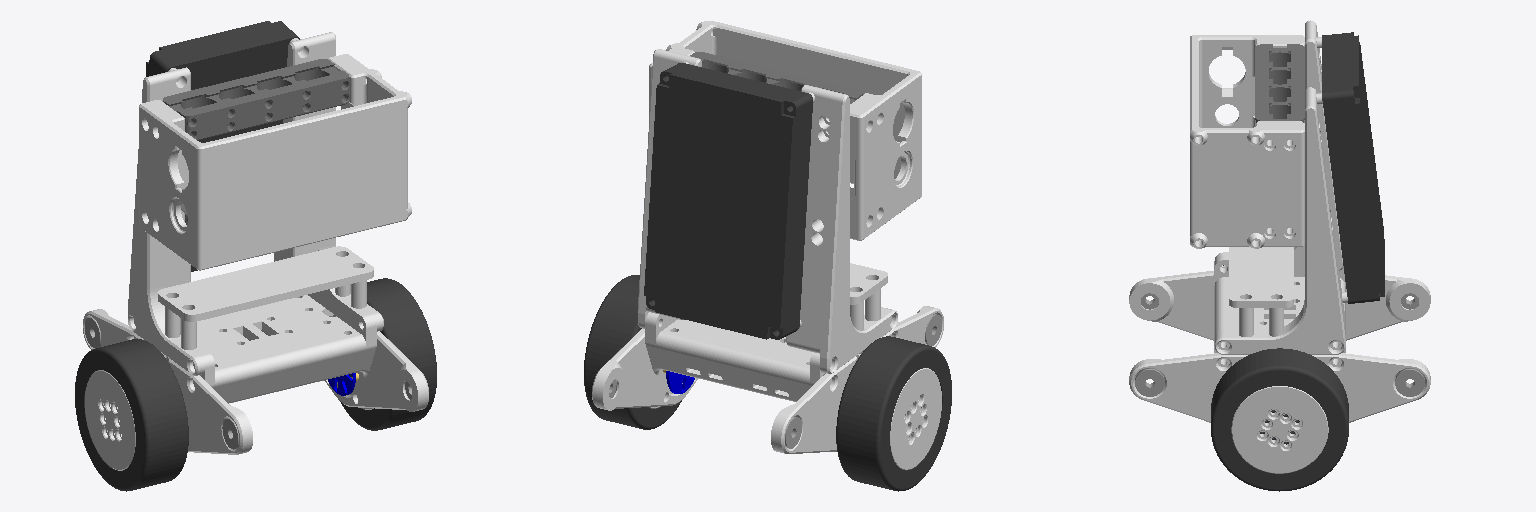
robot.urdf — my-robot:
<?xml version="1.0" ?>
<!-- Generated using onshape-to-robot -->
<!-- Onshape https://cad.onshape.com/documents/c31b75b69f86cba7a60e5fc7/w/78a9ece6d596751f738012d2/e/c7fa50fe5dc467a47ab74165 -->
<robot name="my-robot">
  <!-- Link base -->
  <link name="base">
    <inertial>
      <origin xyz="0 0 0" rpy="0 0 0"/>
      <mass value="1e-09"/>
      <inertia ixx="1e-09" ixy="0" ixz="0" iyy="1e-09" iyz="0" izz="1e-09"/>
    </inertial>
    <!-- Part right_mount -->
    <visual>
      <origin xyz="-0.055 0 -0.0299199" rpy="0 -0 3.14159"/>
      <geometry>
        <mesh filename="package://assets/right_mount.stl"/>
      </geometry>
      <material name="right_mount_material">
        <color rgba="0.917647 0.917647 0.917647 1"/>
      </material>
    </visual>
    <collision>
      <origin xyz="-0.055 0 -0.0299199" rpy="0 -0 3.14159"/>
      <geometry>
        <mesh filename="package://assets/right_mount.stl"/>
      </geometry>
    </collision>
    <!-- Part bearing -->
    <visual>
      <origin xyz="-0.055 0 -0.0299199" rpy="0 -0 -3.14159"/>
      <geometry>
        <mesh filename="package://assets/bearing.stl"/>
      </geometry>
      <material name="bearing_material">
        <color rgba="0.701961 0.701961 0.701961 1"/>
      </material>
    </visual>
    <collision>
      <origin xyz="-0.055 0 -0.0299199" rpy="0 -0 -3.14159"/>
      <geometry>
        <mesh filename="package://assets/bearing.stl"/>
      </geometry>
    </collision>
    <!-- Part part_1 -->
    <visual>
      <origin xyz="0 -0.000288972 0.00708619" rpy="0 -0 -3.14159"/>
      <geometry>
        <mesh filename="package://assets/part_1.stl"/>
      </geometry>
      <material name="part_1_material">
        <color rgba="0.917647 0.917647 0.917647 1"/>
      </material>
    </visual>
    <collision>
      <origin xyz="0 -0.000288972 0.00708619" rpy="0 -0 -3.14159"/>
      <geometry>
        <mesh filename="package://assets/part_1.stl"/>
      </geometry>
    </collision>
    <!-- Part bearing_2 -->
    <visual>
      <origin xyz="-0.16 0 -0.0299199" rpy="0 -0 3.14159"/>
      <geometry>
        <mesh filename="package://assets/bearing.stl"/>
      </geometry>
      <material name="bearing_2_material">
        <color rgba="0.701961 0.701961 0.701961 1"/>
      </material>
    </visual>
    <collision>
      <origin xyz="-0.16 0 -0.0299199" rpy="0 -0 3.14159"/>
      <geometry>
        <mesh filename="package://assets/bearing.stl"/>
      </geometry>
    </collision>
    <!-- Part bearing_3 -->
    <visual>
      <origin xyz="-0.16 0.139 -0.0299199" rpy="0 -0 3.14159"/>
      <geometry>
        <mesh filename="package://assets/bearing.stl"/>
      </geometry>
      <material name="bearing_3_material">
        <color rgba="0.701961 0.701961 0.701961 1"/>
      </material>
    </visual>
    <collision>
      <origin xyz="-0.16 0.139 -0.0299199" rpy="0 -0 3.14159"/>
      <geometry>
        <mesh filename="package://assets/bearing.stl"/>
      </geometry>
    </collision>
    <!-- Part part_1_2 -->
    <visual>
      <origin xyz="0 0.0491338 0.086117" rpy="-0 -1.45613 -1.5708"/>
      <geometry>
        <mesh filename="package://assets/part_1__2.stl"/>
      </geometry>
      <material name="part_1_2_material">
        <color rgba="0.301961 0.301961 0.301961 1"/>
      </material>
    </visual>
    <collision>
      <origin xyz="0 0.0491338 0.086117" rpy="-0 -1.45613 -1.5708"/>
      <geometry>
        <mesh filename="package://assets/part_1__2.stl"/>
      </geometry>
    </collision>
    <!-- Part rightpillar -->
    <visual>
      <origin xyz="-0.055 0 -0.0299199" rpy="0 -0 3.14159"/>
      <geometry>
        <mesh filename="package://assets/rightpillar.stl"/>
      </geometry>
      <material name="rightpillar_material">
        <color rgba="0.917647 0.917647 0.917647 1"/>
      </material>
    </visual>
    <collision>
      <origin xyz="-0.055 0 -0.0299199" rpy="0 -0 3.14159"/>
      <geometry>
        <mesh filename="package://assets/rightpillar.stl"/>
      </geometry>
    </collision>
    <!-- Part mcu_platform -->
    <visual>
      <origin xyz="-0.055 0 -0.0299199" rpy="0 -0 -3.14159"/>
      <geometry>
        <mesh filename="package://assets/mcu_platform.stl"/>
      </geometry>
      <material name="mcu_platform_material">
        <color rgba="0.917647 0.917647 0.917647 1"/>
      </material>
    </visual>
    <collision>
      <origin xyz="-0.055 0 -0.0299199" rpy="0 -0 -3.14159"/>
      <geometry>
        <mesh filename="package://assets/mcu_platform.stl"/>
      </geometry>
    </collision>
    <!-- Part bearing_4 -->
    <visual>
      <origin xyz="-0.055 0.139 -0.0299199" rpy="0 -0 -3.14159"/>
      <geometry>
        <mesh filename="package://assets/bearing.stl"/>
      </geometry>
      <material name="bearing_4_material">
        <color rgba="0.701961 0.701961 0.701961 1"/>
      </material>
    </visual>
    <collision>
      <origin xyz="-0.055 0.139 -0.0299199" rpy="0 -0 -3.14159"/>
      <geometry>
        <mesh filename="package://assets/bearing.stl"/>
      </geometry>
    </collision>
    <!-- Part leftpillar -->
    <visual>
      <origin xyz="-0.055 0 -0.0299199" rpy="0 -0 3.14159"/>
      <geometry>
        <mesh filename="package://assets/leftpillar.stl"/>
      </geometry>
      <material name="leftpillar_material">
        <color rgba="0.917647 0.917647 0.917647 1"/>
      </material>
    </visual>
    <collision>
      <origin xyz="-0.055 0 -0.0299199" rpy="0 -0 3.14159"/>
      <geometry>
        <mesh filename="package://assets/leftpillar.stl"/>
      </geometry>
    </collision>
    <!-- Part base -->
    <visual>
      <origin xyz="-0.055 0 -0.0299199" rpy="0 -0 3.14159"/>
      <geometry>
        <mesh filename="package://assets/base.stl"/>
      </geometry>
      <material name="base_material">
        <color rgba="0.917647 0.917647 0.917647 1"/>
      </material>
    </visual>
    <collision>
      <origin xyz="-0.055 0 -0.0299199" rpy="0 -0 3.14159"/>
      <geometry>
        <mesh filename="package://assets/base.stl"/>
      </geometry>
    </collision>
    <!-- Part left_mount -->
    <visual>
      <origin xyz="-0.055 0 -0.0299199" rpy="0 -0 3.14159"/>
      <geometry>
        <mesh filename="package://assets/left_mount.stl"/>
      </geometry>
      <material name="left_mount_material">
        <color rgba="0.917647 0.917647 0.917647 1"/>
      </material>
    </visual>
    <collision>
      <origin xyz="-0.055 0 -0.0299199" rpy="0 -0 3.14159"/>
      <geometry>
        <mesh filename="package://assets/left_mount.stl"/>
      </geometry>
    </collision>
    <!-- Part part_1_3 -->
    <visual>
      <origin xyz="-0.033 0 0.0815252" rpy="-3.14159 0 0"/>
      <geometry>
        <mesh filename="package://assets/part_1__3.stl"/>
      </geometry>
      <material name="part_1_3_material">
        <color rgba="0.501961 0.501961 0.501961 1"/>
      </material>
    </visual>
    <collision>
      <origin xyz="-0.033 0 0.0815252" rpy="-3.14159 0 0"/>
      <geometry>
        <mesh filename="package://assets/part_1__3.stl"/>
      </geometry>
    </collision>
    <!-- Part part_1_4 -->
    <visual>
      <origin xyz="0.033 0 0.100941" rpy="-1.5708 -0 -3.14159"/>
      <geometry>
        <mesh filename="package://assets/part_1__4.stl"/>
      </geometry>
      <material name="part_1_4_material">
        <color rgba="0.85098 0.756863 0.866667 1"/>
      </material>
    </visual>
    <collision>
      <origin xyz="0.033 0 0.100941" rpy="-1.5708 -0 -3.14159"/>
      <geometry>
        <mesh filename="package://assets/part_1__4.stl"/>
      </geometry>
    </collision>
    <!-- Part part_1_5 -->
    <visual>
      <origin xyz="0.033 0 0.120357" rpy="0 -0 -3.14159"/>
      <geometry>
        <mesh filename="package://assets/part_1__3.stl"/>
      </geometry>
      <material name="part_1_5_material">
        <color rgba="0.501961 0.501961 0.501961 1"/>
      </material>
    </visual>
    <collision>
      <origin xyz="0.033 0 0.120357" rpy="0 -0 -3.14159"/>
      <geometry>
        <mesh filename="package://assets/part_1__3.stl"/>
      </geometry>
    </collision>
    <!-- Part part_1_6 -->
    <visual>
      <origin xyz="-0.033 0 0.100941" rpy="-1.5708 -0 -3.14159"/>
      <geometry>
        <mesh filename="package://assets/part_1__4.stl"/>
      </geometry>
      <material name="part_1_6_material">
        <color rgba="0.85098 0.756863 0.866667 1"/>
      </material>
    </visual>
    <collision>
      <origin xyz="-0.033 0 0.100941" rpy="-1.5708 -0 -3.14159"/>
      <geometry>
        <mesh filename="package://assets/part_1__4.stl"/>
      </geometry>
    </collision>
    <!-- Part part_1_7 -->
    <visual>
      <origin xyz="-0.011 0 0.100941" rpy="-1.5708 -0 -3.14159"/>
      <geometry>
        <mesh filename="package://assets/part_1__4.stl"/>
      </geometry>
      <material name="part_1_7_material">
        <color rgba="0.85098 0.756863 0.866667 1"/>
      </material>
    </visual>
    <collision>
      <origin xyz="-0.011 0 0.100941" rpy="-1.5708 -0 -3.14159"/>
      <geometry>
        <mesh filename="package://assets/part_1__4.stl"/>
      </geometry>
    </collision>
    <!-- Part part_1_8 -->
    <visual>
      <origin xyz="0.011 0 0.100941" rpy="-1.5708 -0 -3.14159"/>
      <geometry>
        <mesh filename="package://assets/part_1__4.stl"/>
      </geometry>
      <material name="part_1_8_material">
        <color rgba="0.85098 0.756863 0.866667 1"/>
      </material>
    </visual>
    <collision>
      <origin xyz="0.011 0 0.100941" rpy="-1.5708 -0 -3.14159"/>
      <geometry>
        <mesh filename="package://assets/part_1__4.stl"/>
      </geometry>
    </collision>
  </link>
  <!-- Link wheelhub -->
  <link name="wheelhub">
    <inertial>
      <origin xyz="0 0 0" rpy="0 0 0"/>
      <mass value="1e-09"/>
      <inertia ixx="1e-09" ixy="0" ixz="0" iyy="1e-09" iyz="0" izz="1e-09"/>
    </inertial>
    <!-- Part wheelhub -->
    <visual>
      <origin xyz="0 -0 -0.006" rpy="0 0 1.80403"/>
      <geometry>
        <mesh filename="package://assets/wheelhub.stl"/>
      </geometry>
      <material name="wheelhub_material">
        <color rgba="0.917647 0.917647 0.917647 1"/>
      </material>
    </visual>
    <collision>
      <origin xyz="0 -0 -0.006" rpy="0 0 1.80403"/>
      <geometry>
        <mesh filename="package://assets/wheelhub.stl"/>
      </geometry>
    </collision>
    <!-- Part tire -->
    <visual>
      <origin xyz="0 -0 -0.006" rpy="0 0 1.80403"/>
      <geometry>
        <mesh filename="package://assets/tire.stl"/>
      </geometry>
      <material name="tire_material">
        <color rgba="0.301961 0.301961 0.301961 1"/>
      </material>
    </visual>
    <collision>
      <origin xyz="0 -0 -0.006" rpy="0 0 1.80403"/>
      <geometry>
        <mesh filename="package://assets/tire.stl"/>
      </geometry>
    </collision>
    <!-- Part standoff -->
    <visual>
      <origin xyz="0.0238995 -0.00989949 -0.0076" rpy="0 0 0"/>
      <geometry>
        <mesh filename="package://assets/standoff.stl"/>
      </geometry>
      <material name="standoff_material">
        <color rgba="0.960784 0.835294 0.470588 1"/>
      </material>
    </visual>
    <collision>
      <origin xyz="0.0238995 -0.00989949 -0.0076" rpy="0 0 0"/>
      <geometry>
        <mesh filename="package://assets/standoff.stl"/>
      </geometry>
    </collision>
    <!-- Part standoff_2 -->
    <visual>
      <origin xyz="-0.00410051 -0.00989949 -0.0076" rpy="0 0 0"/>
      <geometry>
        <mesh filename="package://assets/standoff.stl"/>
      </geometry>
      <material name="standoff_2_material">
        <color rgba="0.960784 0.835294 0.470588 1"/>
      </material>
    </visual>
    <collision>
      <origin xyz="-0.00410051 -0.00989949 -0.0076" rpy="0 0 0"/>
      <geometry>
        <mesh filename="package://assets/standoff.stl"/>
      </geometry>
    </collision>
    <!-- Part fixed -->
    <visual>
      <origin xyz="0 0 0" rpy="0 -0 0"/>
      <geometry>
        <mesh filename="package://assets/fixed.stl"/>
      </geometry>
      <material name="fixed_material">
        <color rgba="0.262745 0.282353 0.301961 1"/>
      </material>
    </visual>
    <collision>
      <origin xyz="0 0 0" rpy="0 -0 0"/>
      <geometry>
        <mesh filename="package://assets/fixed.stl"/>
      </geometry>
    </collision>
    <!-- Part pcb -->
    <visual>
      <origin xyz="0 0 -0.006" rpy="3.14159 -0 -2.35619"/>
      <geometry>
        <mesh filename="package://assets/pcb.stl"/>
      </geometry>
      <material name="pcb_material">
        <color rgba="0 0 1 1"/>
      </material>
    </visual>
    <collision>
      <origin xyz="0 0 -0.006" rpy="3.14159 -0 -2.35619"/>
      <geometry>
        <mesh filename="package://assets/pcb.stl"/>
      </geometry>
    </collision>
    <!-- Part shaft -->
    <visual>
      <origin xyz="0 -0 0" rpy="-0 0 1.01863"/>
      <geometry>
        <mesh filename="package://assets/shaft.stl"/>
      </geometry>
      <material name="shaft_material">
        <color rgba="0.262745 0.282353 0.301961 1"/>
      </material>
    </visual>
    <collision>
      <origin xyz="0 -0 0" rpy="-0 0 1.01863"/>
      <geometry>
        <mesh filename="package://assets/shaft.stl"/>
      </geometry>
    </collision>
    <!-- Part standoff_3 -->
    <visual>
      <origin xyz="0.00989949 -0.0238995 -0.0076" rpy="0 0 0"/>
      <geometry>
        <mesh filename="package://assets/standoff.stl"/>
      </geometry>
      <material name="standoff_3_material">
        <color rgba="0.960784 0.835294 0.470588 1"/>
      </material>
    </visual>
    <collision>
      <origin xyz="0.00989949 -0.0238995 -0.0076" rpy="0 0 0"/>
      <geometry>
        <mesh filename="package://assets/standoff.stl"/>
      </geometry>
    </collision>
    <!-- Part standoff_4 -->
    <visual>
      <origin xyz="0.00989949 0.00410051 -0.0076" rpy="0 0 0"/>
      <geometry>
        <mesh filename="package://assets/standoff.stl"/>
      </geometry>
      <material name="standoff_4_material">
        <color rgba="0.960784 0.835294 0.470588 1"/>
      </material>
    </visual>
    <collision>
      <origin xyz="0.00989949 0.00410051 -0.0076" rpy="0 0 0"/>
      <geometry>
        <mesh filename="package://assets/standoff.stl"/>
      </geometry>
    </collision>
  </link>
  <!-- Joint from base to wheelhub -->
  <joint name="leftWheel" type="revolute">
    <origin xyz="0.055 0 -0.0299199" rpy="1.5708 -0.114137 1.5708"/>
    <parent link="base"/>
    <child link="wheelhub"/>
    <axis xyz="0 0 1"/>
    <limit effort="10" velocity="10" lower="-3.141592653589793" upper="3.141592653589793"/>
  </joint>
  <!-- Link 4015_motor_assembly -->
  <link name="4015_motor_assembly">
    <inertial>
      <origin xyz="0 0 0" rpy="0 0 0"/>
      <mass value="1e-09"/>
      <inertia ixx="1e-09" ixy="0" ixz="0" iyy="1e-09" iyz="0" izz="1e-09"/>
    </inertial>
    <!-- Part wheelhub_2 -->
    <visual>
      <origin xyz="-0 0 0.006" rpy="-3.14159 0 0.495054"/>
      <geometry>
        <mesh filename="package://assets/wheelhub.stl"/>
      </geometry>
      <material name="wheelhub_2_material">
        <color rgba="0.917647 0.917647 0.917647 1"/>
      </material>
    </visual>
    <collision>
      <origin xyz="-0 0 0.006" rpy="-3.14159 0 0.495054"/>
      <geometry>
        <mesh filename="package://assets/wheelhub.stl"/>
      </geometry>
    </collision>
    <!-- Part tire_2 -->
    <visual>
      <origin xyz="-0 0 0.006" rpy="-3.14159 0 0.495054"/>
      <geometry>
        <mesh filename="package://assets/tire.stl"/>
      </geometry>
      <material name="tire_2_material">
        <color rgba="0.301961 0.301961 0.301961 1"/>
      </material>
    </visual>
    <collision>
      <origin xyz="-0 0 0.006" rpy="-3.14159 0 0.495054"/>
      <geometry>
        <mesh filename="package://assets/tire.stl"/>
      </geometry>
    </collision>
    <!-- Part standoff_5 -->
    <visual>
      <origin xyz="0.0238995 0.00989949 0.0076" rpy="3.14159 -0 0"/>
      <geometry>
        <mesh filename="package://assets/standoff.stl"/>
      </geometry>
      <material name="standoff_5_material">
        <color rgba="0.960784 0.835294 0.470588 1"/>
      </material>
    </visual>
    <collision>
      <origin xyz="0.0238995 0.00989949 0.0076" rpy="3.14159 -0 0"/>
      <geometry>
        <mesh filename="package://assets/standoff.stl"/>
      </geometry>
    </collision>
    <!-- Part standoff_6 -->
    <visual>
      <origin xyz="-0.00410051 0.00989949 0.0076" rpy="3.14159 -0 0"/>
      <geometry>
        <mesh filename="package://assets/standoff.stl"/>
      </geometry>
      <material name="standoff_6_material">
        <color rgba="0.960784 0.835294 0.470588 1"/>
      </material>
    </visual>
    <collision>
      <origin xyz="-0.00410051 0.00989949 0.0076" rpy="3.14159 -0 0"/>
      <geometry>
        <mesh filename="package://assets/standoff.stl"/>
      </geometry>
    </collision>
    <!-- Part fixed_2 -->
    <visual>
      <origin xyz="0 0 0" rpy="3.14159 -0 0"/>
      <geometry>
        <mesh filename="package://assets/fixed.stl"/>
      </geometry>
      <material name="fixed_2_material">
        <color rgba="0.262745 0.282353 0.301961 1"/>
      </material>
    </visual>
    <collision>
      <origin xyz="0 0 0" rpy="3.14159 -0 0"/>
      <geometry>
        <mesh filename="package://assets/fixed.stl"/>
      </geometry>
    </collision>
    <!-- Part pcb_2 -->
    <visual>
      <origin xyz="0 -0 0.006" rpy="-0 0 2.35619"/>
      <geometry>
        <mesh filename="package://assets/pcb.stl"/>
      </geometry>
      <material name="pcb_2_material">
        <color rgba="0 0 1 1"/>
      </material>
    </visual>
    <collision>
      <origin xyz="0 -0 0.006" rpy="-0 0 2.35619"/>
      <geometry>
        <mesh filename="package://assets/pcb.stl"/>
      </geometry>
    </collision>
    <!-- Part shaft_2 -->
    <visual>
      <origin xyz="-0 0 0" rpy="3.14159 -0 -1.86114"/>
      <geometry>
        <mesh filename="package://assets/shaft.stl"/>
      </geometry>
      <material name="shaft_2_material">
        <color rgba="0.262745 0.282353 0.301961 1"/>
      </material>
    </visual>
    <collision>
      <origin xyz="-0 0 0" rpy="3.14159 -0 -1.86114"/>
      <geometry>
        <mesh filename="package://assets/shaft.stl"/>
      </geometry>
    </collision>
    <!-- Part standoff_7 -->
    <visual>
      <origin xyz="0.00989949 0.0238995 0.0076" rpy="3.14159 -0 0"/>
      <geometry>
        <mesh filename="package://assets/standoff.stl"/>
      </geometry>
      <material name="standoff_7_material">
        <color rgba="0.960784 0.835294 0.470588 1"/>
      </material>
    </visual>
    <collision>
      <origin xyz="0.00989949 0.0238995 0.0076" rpy="3.14159 -0 0"/>
      <geometry>
        <mesh filename="package://assets/standoff.stl"/>
      </geometry>
    </collision>
    <!-- Part standoff_8 -->
    <visual>
      <origin xyz="0.00989949 -0.00410051 0.0076" rpy="3.14159 -0 0"/>
      <geometry>
        <mesh filename="package://assets/standoff.stl"/>
      </geometry>
      <material name="standoff_8_material">
        <color rgba="0.960784 0.835294 0.470588 1"/>
      </material>
    </visual>
    <collision>
      <origin xyz="0.00989949 -0.00410051 0.0076" rpy="3.14159 -0 0"/>
      <geometry>
        <mesh filename="package://assets/standoff.stl"/>
      </geometry>
    </collision>
  </link>
  <!-- Joint from base to 4015_motor_assembly -->
  <joint name="rightWheel" type="revolute">
    <origin xyz="-0.055 0 -0.0299199" rpy="-3.14159 -1.5708 0"/>
    <parent link="base"/>
    <child link="4015_motor_assembly"/>
    <axis xyz="0 0 1"/>
    <limit effort="10" velocity="10" lower="-3.141592653589793" upper="3.141592653589793"/>
  </joint>
</robot>

--- What the picture shows (computed from the rendered views, not written in the file) ---
The picture shows the robot from 3 angles, left to right: view 1: azimuth 30°, elevation 25°; view 2: azimuth 150°, elevation 25°; view 3: azimuth 270°, elevation 25°; orthographic projection.
Robot: my-robot — 3 links, 2 joints (2 revolute); root link base; default pose: all joints at 0.
Links seen in each view (by area): view 1: base, 4015_motor_assembly, wheelhub; view 2: base, 4015_motor_assembly, wheelhub; view 3: base, wheelhub.
Boxes of the visible links, x1,y1,x2,y2 form: base: (83, 21, 428, 454); 4015_motor_assembly: (75, 339, 188, 491); wheelhub: (328, 278, 436, 430); base: (592, 21, 943, 453); 4015_motor_assembly: (836, 336, 951, 491); wheelhub: (584, 275, 694, 429); base: (1129, 20, 1430, 422); wheelhub: (1211, 348, 1348, 491).
Bounding box of the posed robot: 0.1698 × 0.161 × 0.2151 m (x, y, z).
Meshes: 17 distinct files referenced, 32 mesh visuals loaded (16 binary STL); not drawn: 4 (reference not matched to a file when rendering).
